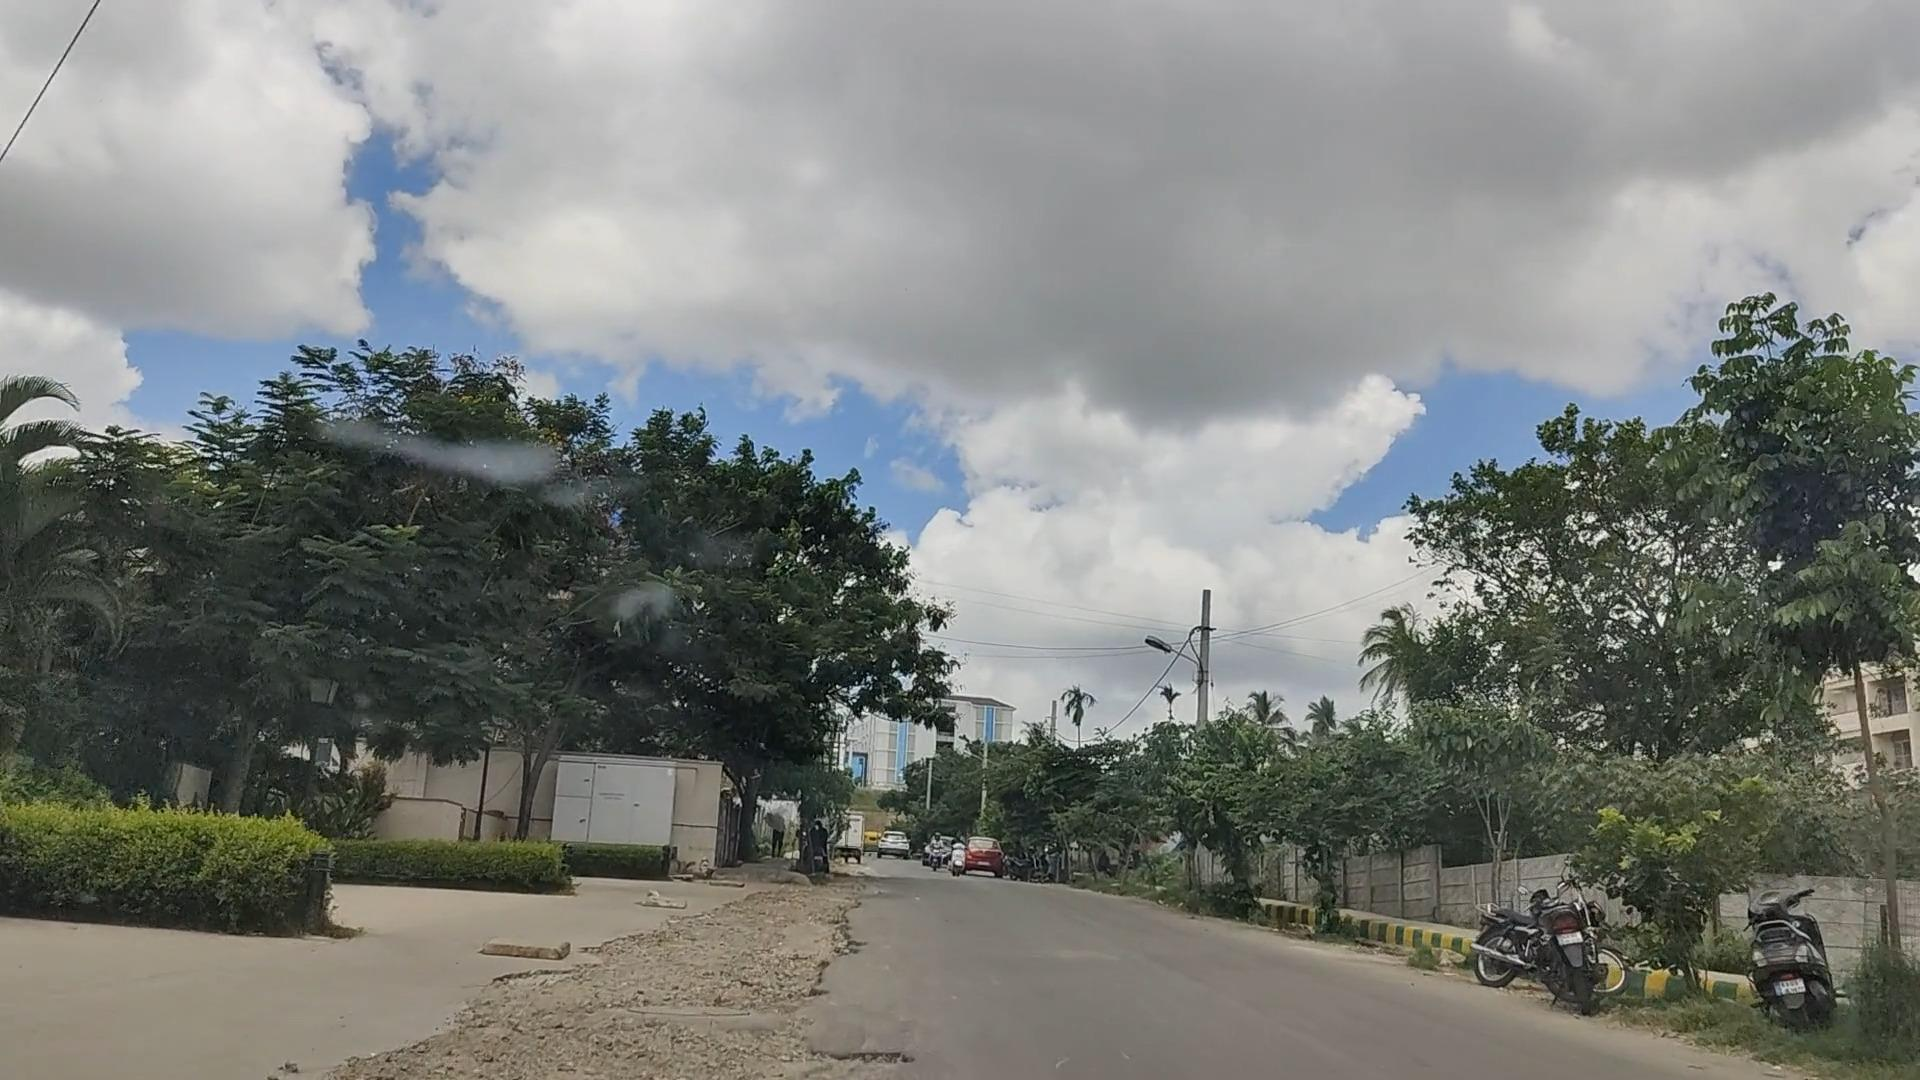RoadDamages: (719, 944, 996, 1080), (800, 873, 980, 961)
